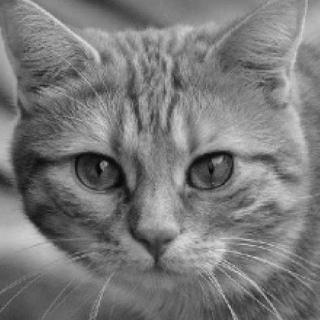cat: (0, 0, 315, 309)
nose: (129, 209, 186, 261)
